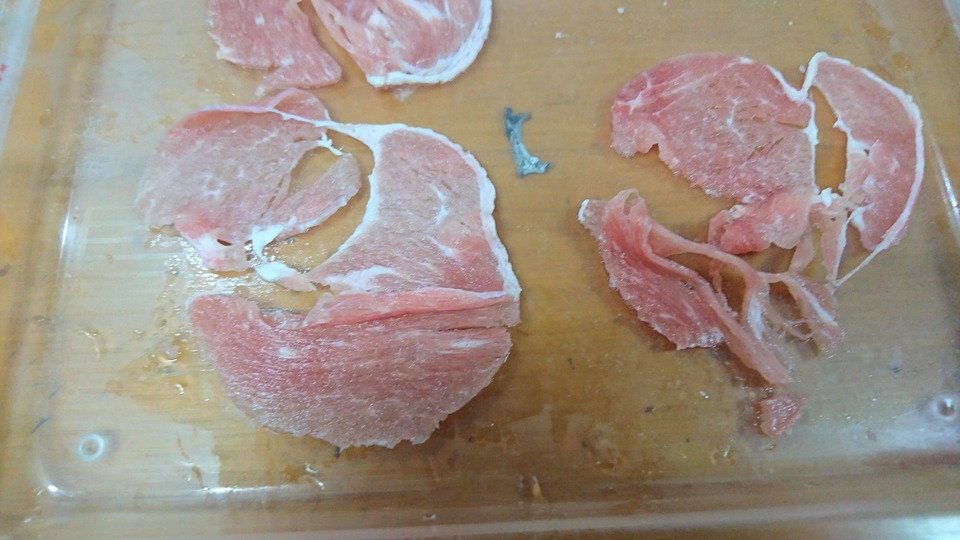restructured meat: (142, 108, 506, 444), (575, 42, 915, 391), (193, 1, 510, 90)
